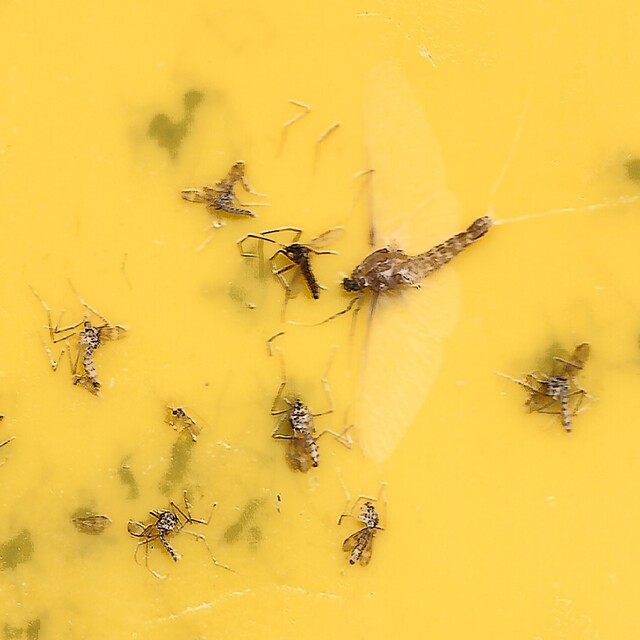Ephemeroptera: (342, 58, 493, 478)
Nematocera: (126, 501, 225, 582), (268, 380, 352, 475), (240, 229, 326, 306), (50, 310, 126, 394), (521, 345, 590, 435), (179, 161, 255, 219), (342, 500, 382, 569), (166, 403, 202, 444)
